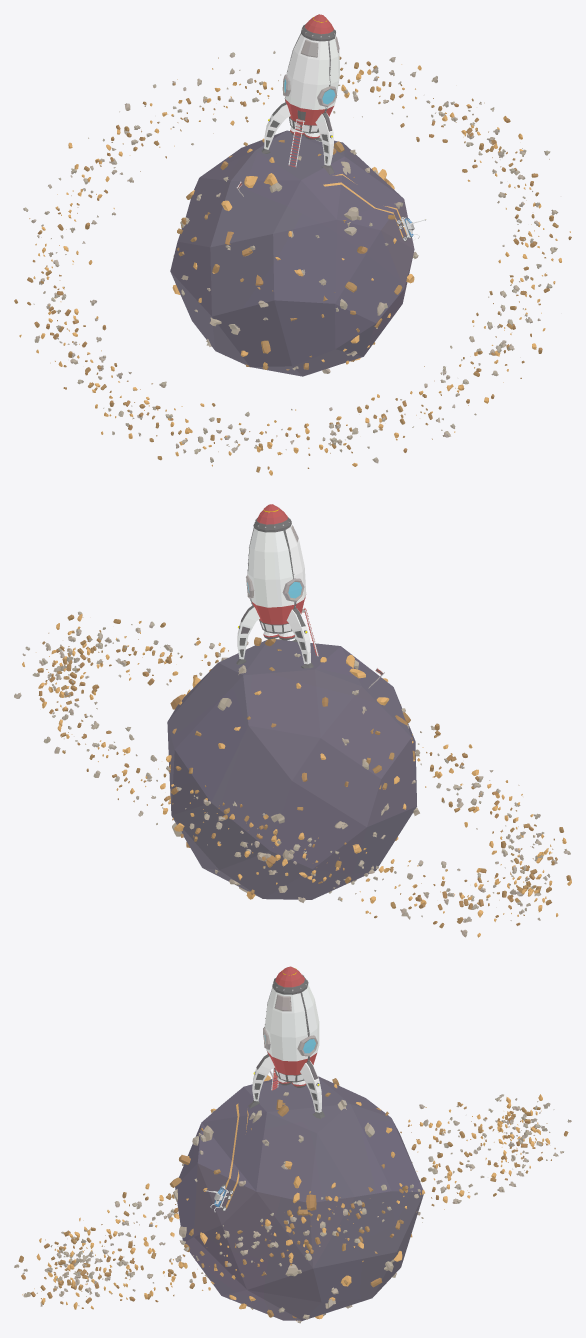
File: moon-transformed.glb
3 views of the same model, one above another, from view 1: azimuth 30°, elevation 25°; view 2: azimuth 150°, elevation 25°; view 3: azimuth 270°, elevation 25° (orthographic). The views are drawn at different scales.
Parts seen in each view (by area): view 1: planet.001; view 2: planet.001; view 3: planet.001.
Boxes of the visible parts, x1=… form: planet.001: x1=14, y1=14, x2=571, y2=475; planet.001: x1=14, y1=504, x2=571, y2=937; planet.001: x1=14, y1=966, x2=571, y2=1323.
Bounding box in the file's own units: 30.57 × 22.91 × 31.65.
1 material, 1 textured.
